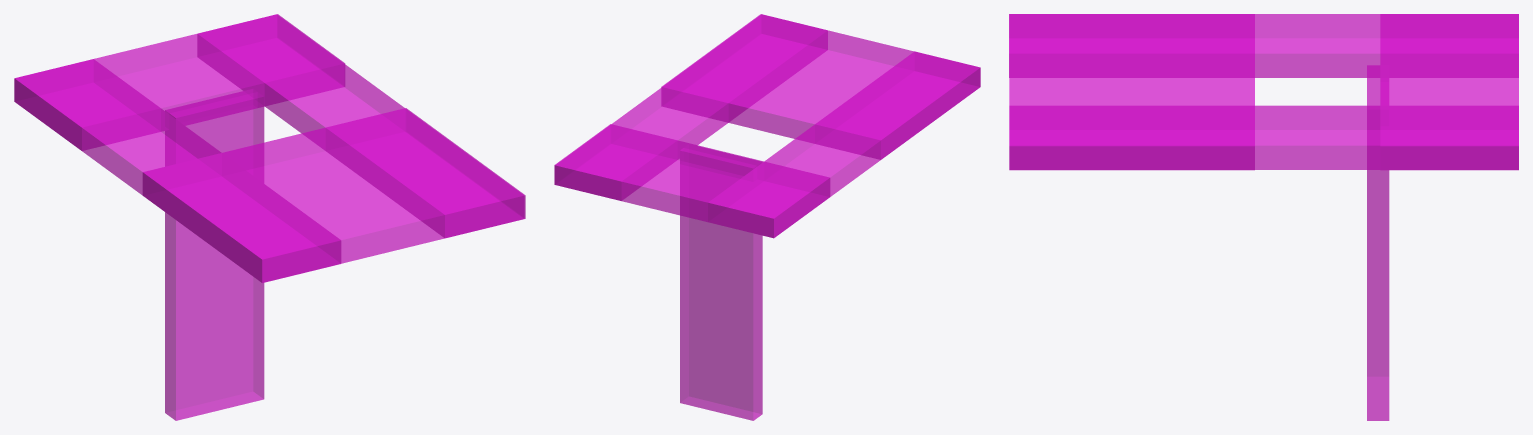
File: SM_Veh_Ship_Ladder_02_Collision.fbx
3 renders of one model, left to right at view 1: azimuth 30°, elevation 25°; view 2: azimuth 150°, elevation 25°; view 3: azimuth 270°, elevation 25°, orthographic. The views are drawn at different scales.
Parts seen in each view (by area): view 1: SM_Veh_Ship_Ladder_02_Collision; view 2: SM_Veh_Ship_Ladder_02_Collision; view 3: SM_Veh_Ship_Ladder_02_Collision.
Part boxes in pixels (left/top/right/bottom): SM_Veh_Ship_Ladder_02_Collision: left=14, top=14, right=525, bottom=420; SM_Veh_Ship_Ladder_02_Collision: left=554, top=14, right=980, bottom=420; SM_Veh_Ship_Ladder_02_Collision: left=1009, top=14, right=1518, bottom=420.
Size of the model in its own units: 261 by 293 by 425.
